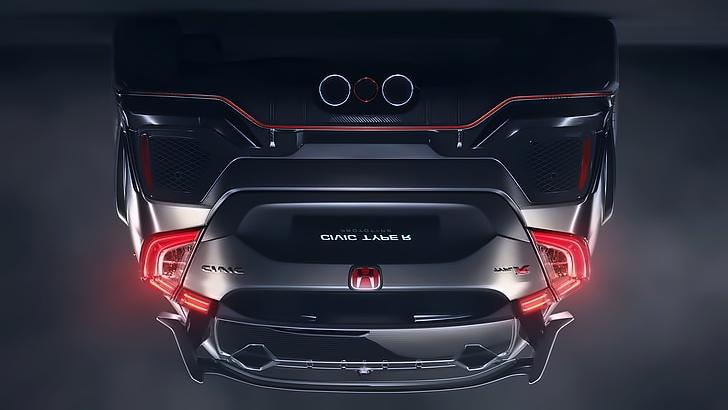Car boot: (174, 160, 559, 392)
Front bumper: (96, 42, 637, 234)
Rear light - -L-: (517, 225, 594, 322)
Rear light - -R-: (135, 225, 212, 321)
